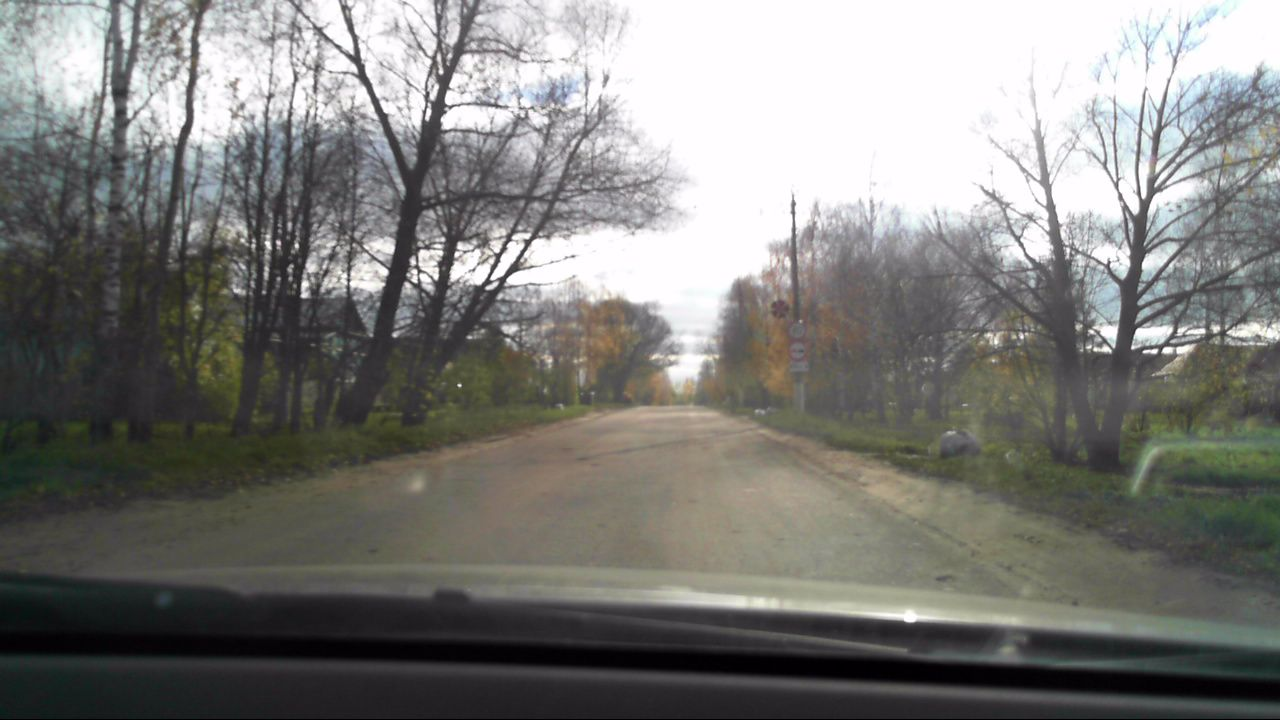speed_warning_40: (785, 320, 806, 340)
